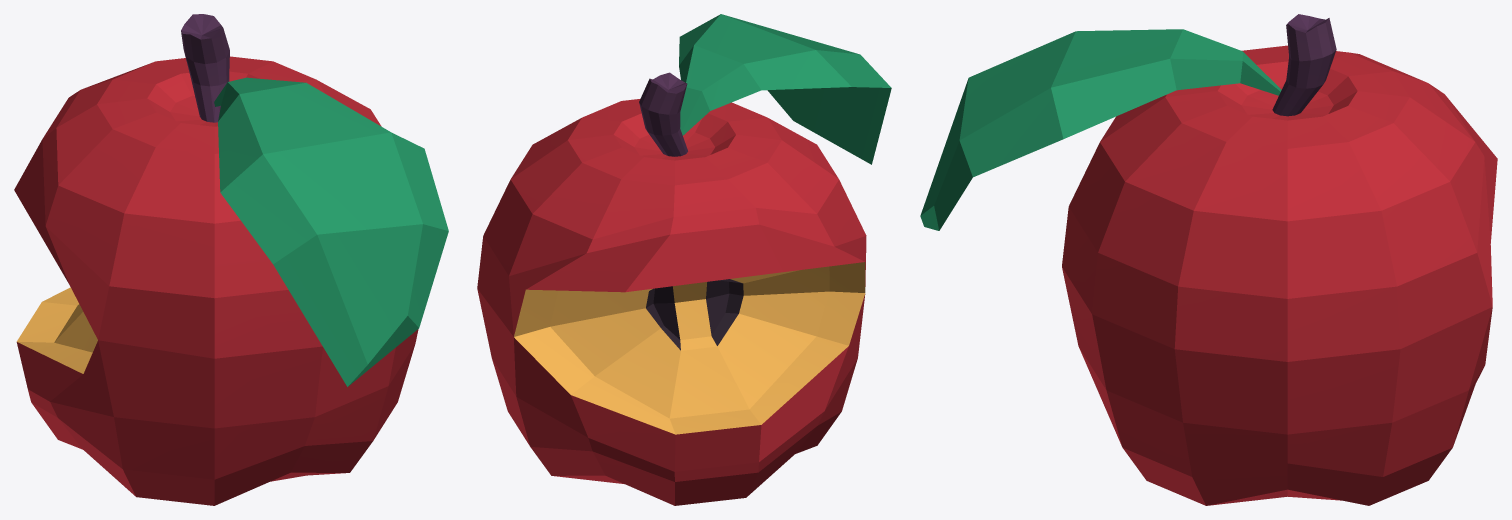
File: Apple_Bite.fbx
3 renders of one model, left to right at view 1: azimuth 30°, elevation 25°; view 2: azimuth 150°, elevation 25°; view 3: azimuth 270°, elevation 25°, orthographic. The views are drawn at different scales.
Parts seen in each view (by area): view 1: Apple.Bite; view 2: Apple.Bite; view 3: Apple.Bite.
Part boxes in pixels (x1,y1,x2,y2): Apple.Bite: (14,14,448,505); Apple.Bite: (477,14,891,505); Apple.Bite: (920,14,1497,505).
Size of the model in its own units: 40.81 by 45.35 by 53.74.
